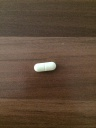Aferin: (33, 61, 57, 72)
